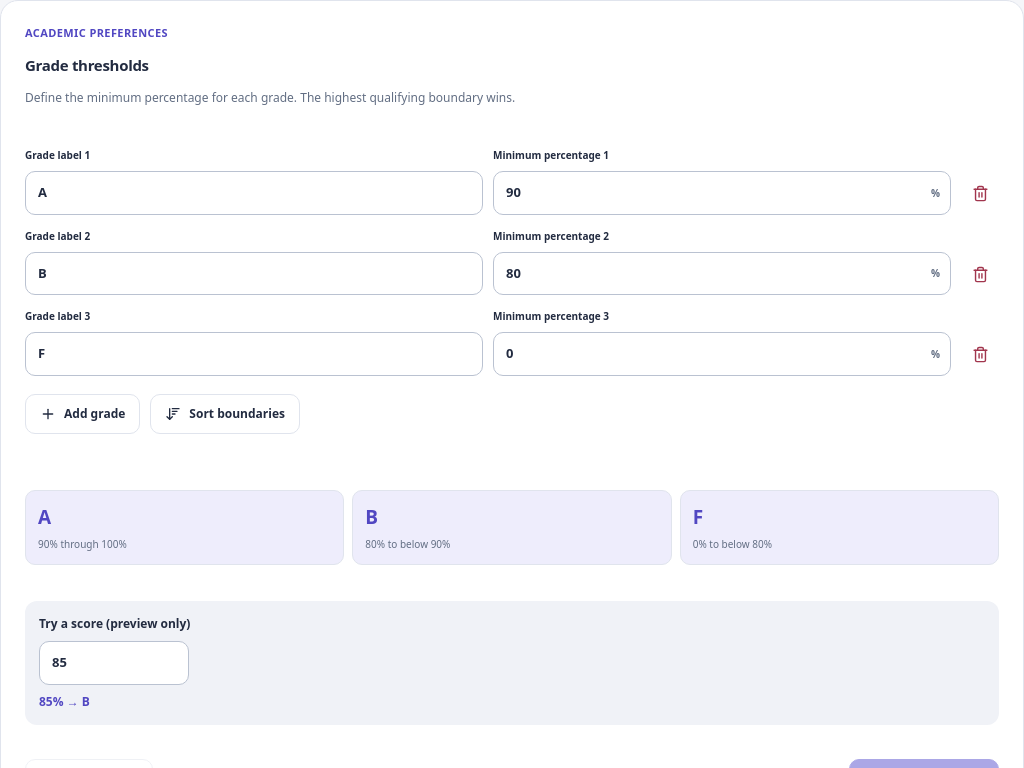
Test: adds/removes rules and saves a sorted structured array with real success feedback
Click the button "Add grade": (83, 414) [25,394,140,434]
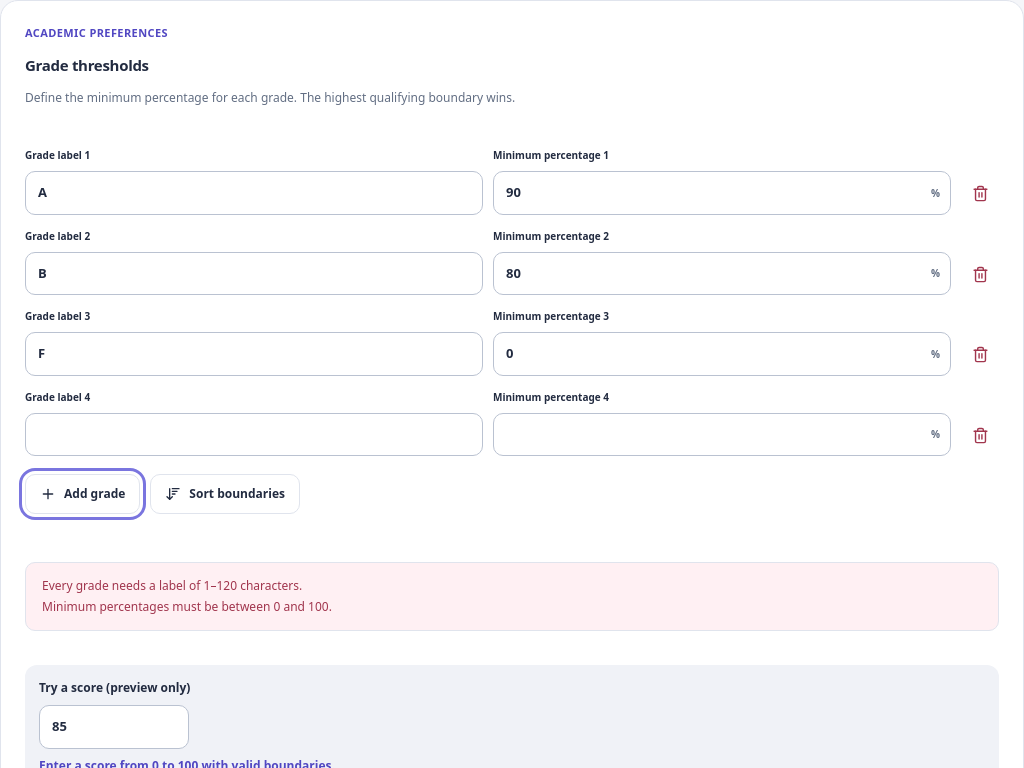
In the field labelled "Grade label 4": (254, 435) [25,413,483,456], type "C"
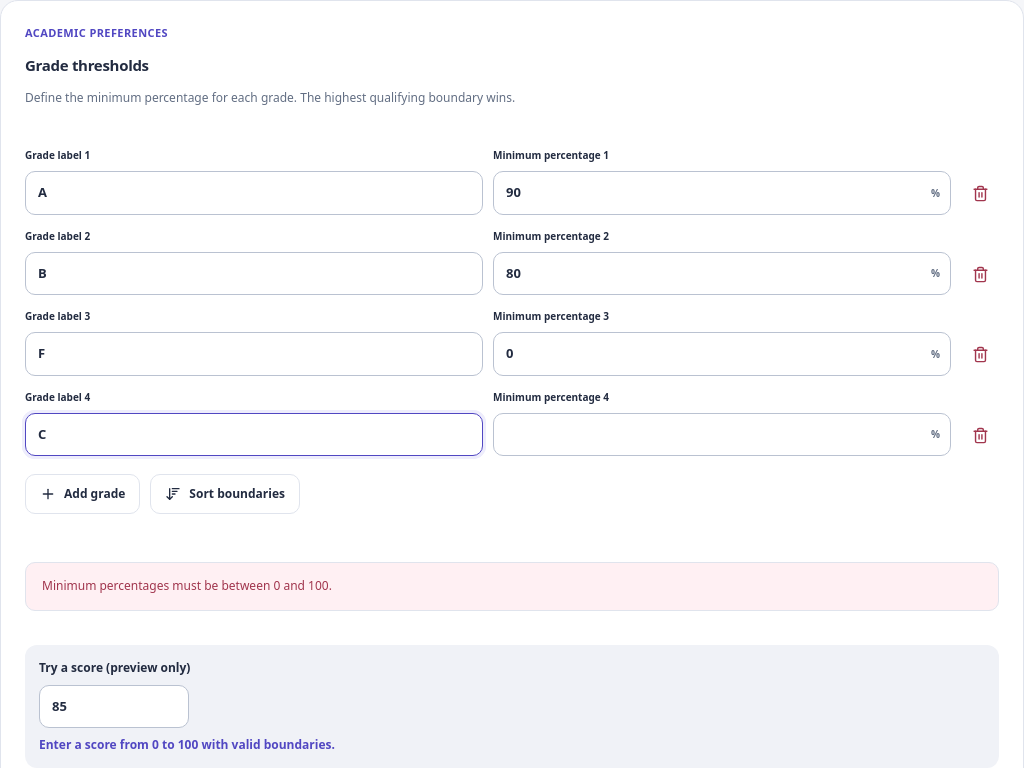
In the number field labelled "Minimum percentage 4": (708, 435) [494,414,921,455], type "70"
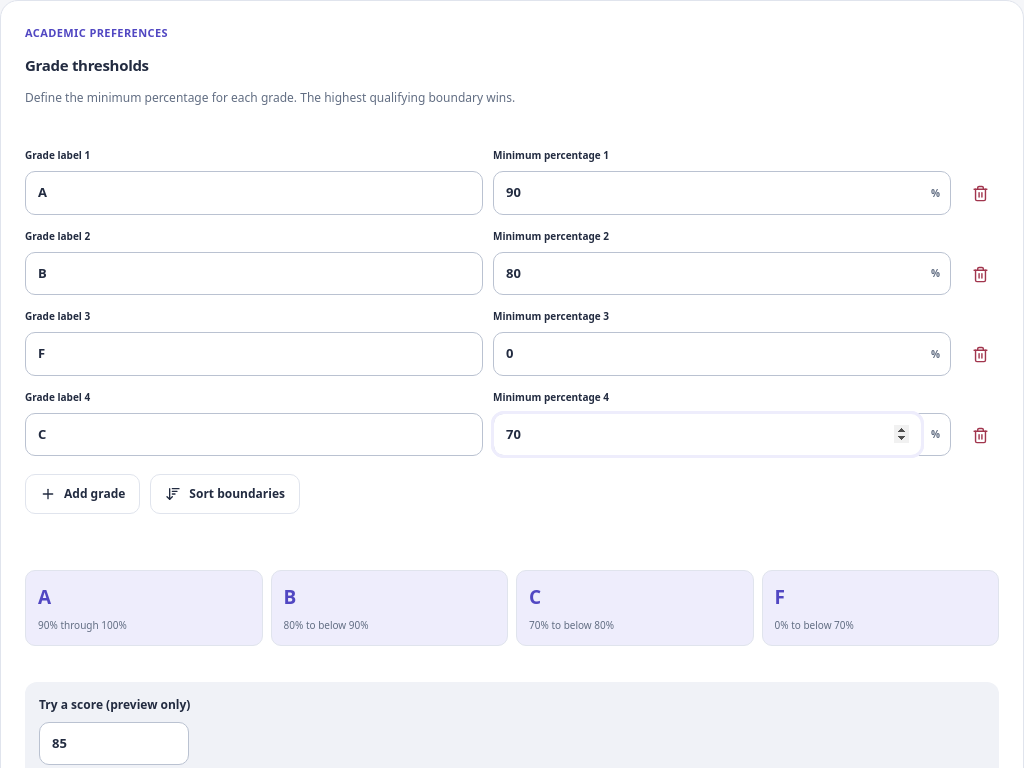
Click the button named "Remove boundary 2": (980, 274) [961,253,999,295]
(page scrolled)
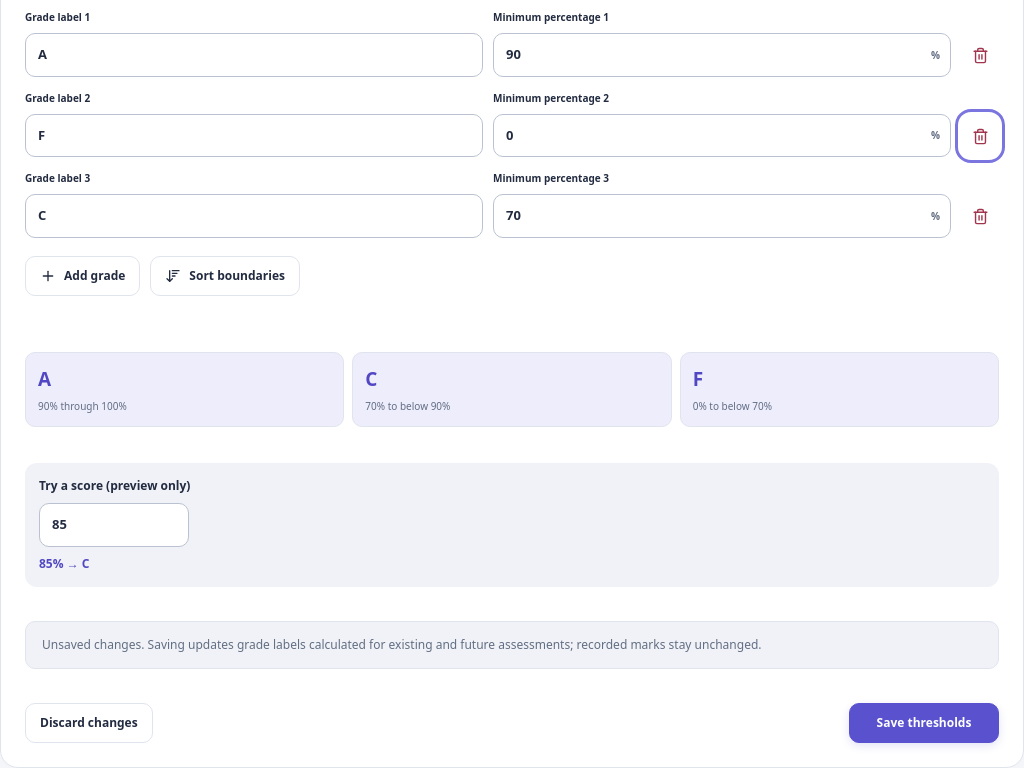
Click the button "Save thresholds": (924, 723) [849,703,999,743]
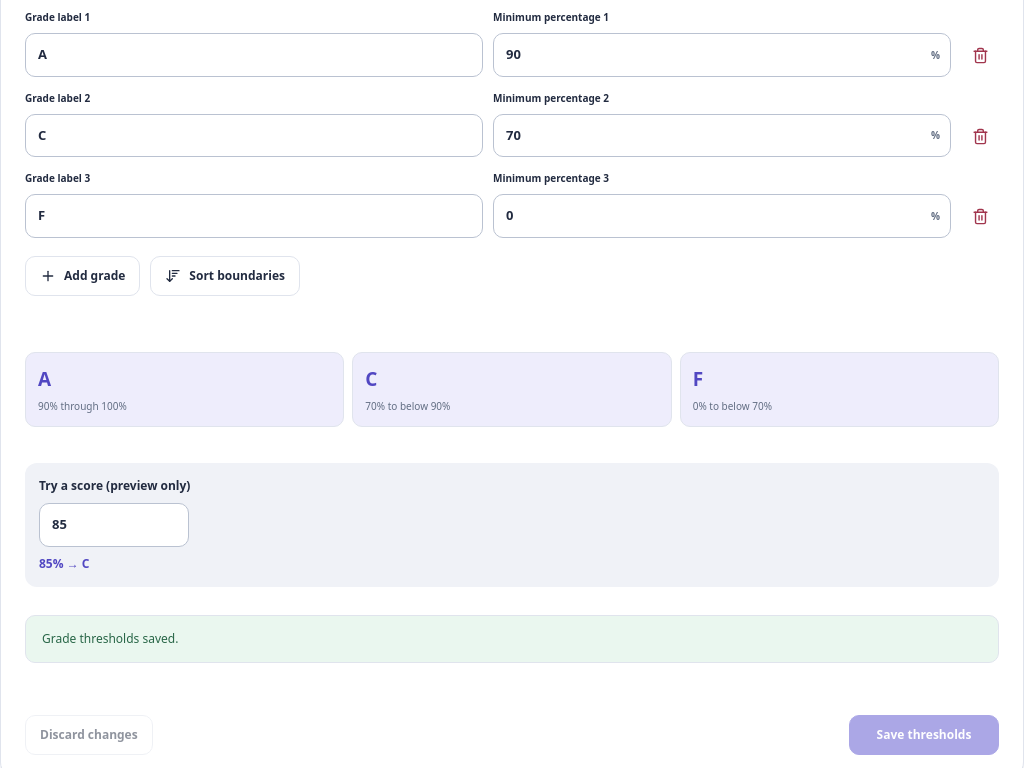
expect the text "Grade thresholds saved." is shown: met, box [25,615,999,663]
